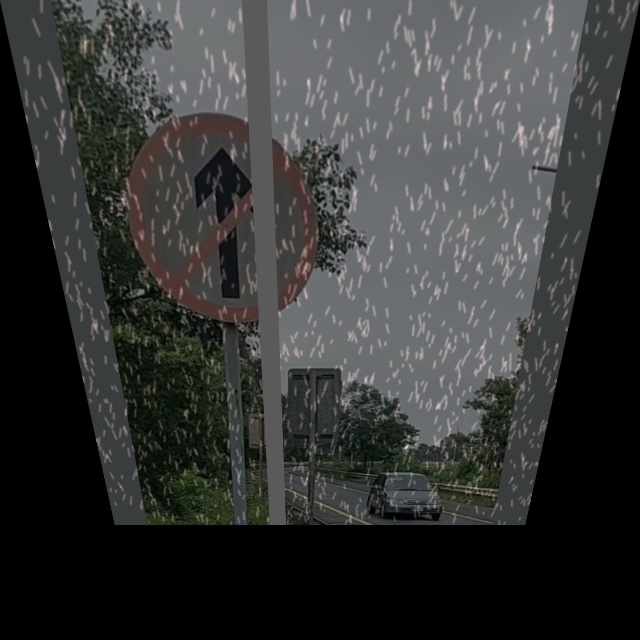No_Entry: (117, 115, 319, 323)
